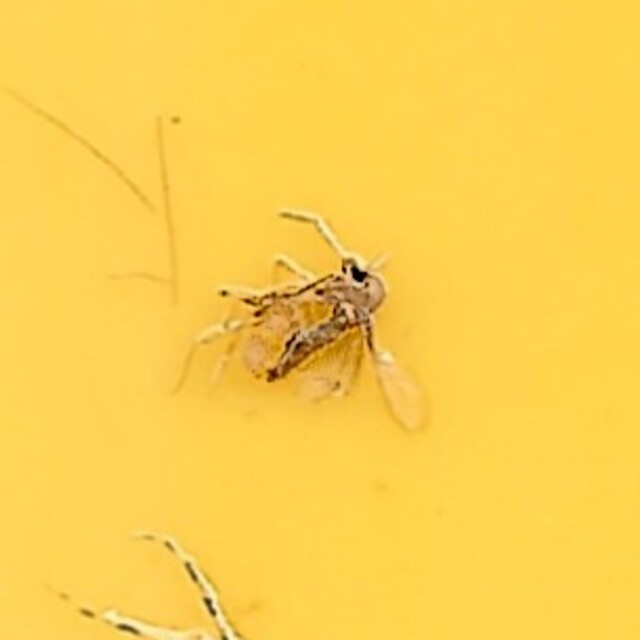Nematocera: (210, 204, 430, 436)
